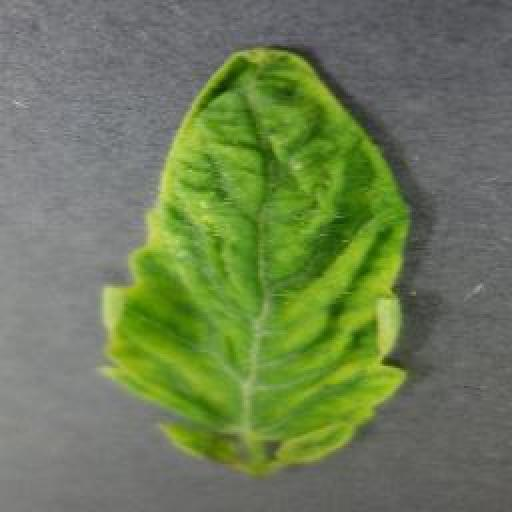disease_tomato: (99, 45, 413, 476)
